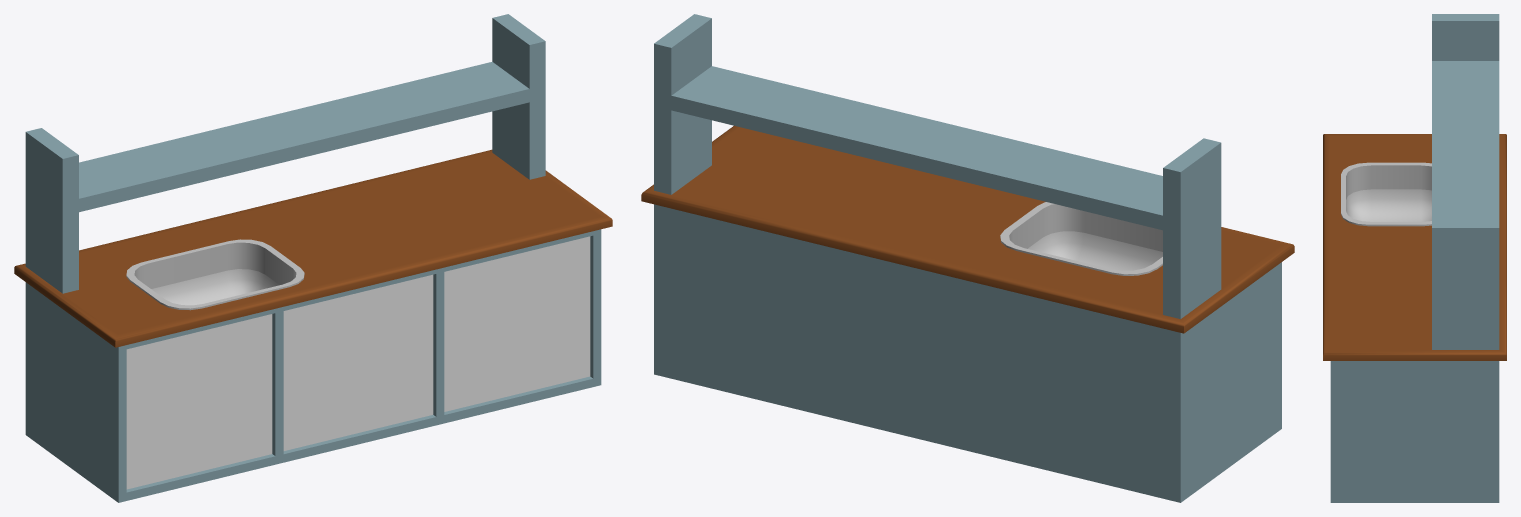
The model's file is Table.fbx.
The picture shows the model from 3 angles, left to right: view 1: azimuth 30°, elevation 25°; view 2: azimuth 150°, elevation 25°; view 3: azimuth 270°, elevation 25°; orthographic projection. The views are drawn at different scales.
Visible parts, largest first — view 1: Cube.004, Cube, Cube.003, Cube.005, Cube.001, Cube.002; view 2: Cube.004, Cube, Cube.003, Cube.001, Cube.005, Cube.002; view 3: Cube.004, Cube, Cube.003, Cube.002, Cube.005, Cube.001.
Part boxes in pixels (x1,y1,x2,y2): Cube.004: [25, 229, 601, 502]; Cube: [14, 149, 612, 347]; Cube.003: [79, 61, 529, 212]; Cube.005: [126, 239, 304, 310]; Cube.001: [25, 128, 78, 293]; Cube.002: [492, 14, 545, 179]; Cube.004: [654, 204, 1281, 502]; Cube: [641, 125, 1294, 333]; Cube.003: [671, 66, 1162, 230]; Cube.001: [1163, 138, 1221, 318]; Cube.005: [1000, 202, 1162, 275]; Cube.002: [654, 14, 711, 194]; Cube.004: [1330, 361, 1499, 502]; Cube: [1323, 134, 1506, 360]; Cube.003: [1432, 61, 1499, 220]; Cube.002: [1432, 220, 1499, 349]; Cube.005: [1341, 162, 1431, 226]; Cube.001: [1432, 14, 1499, 60].
Size of the model in its own units: 247 by 144 by 87.2.
